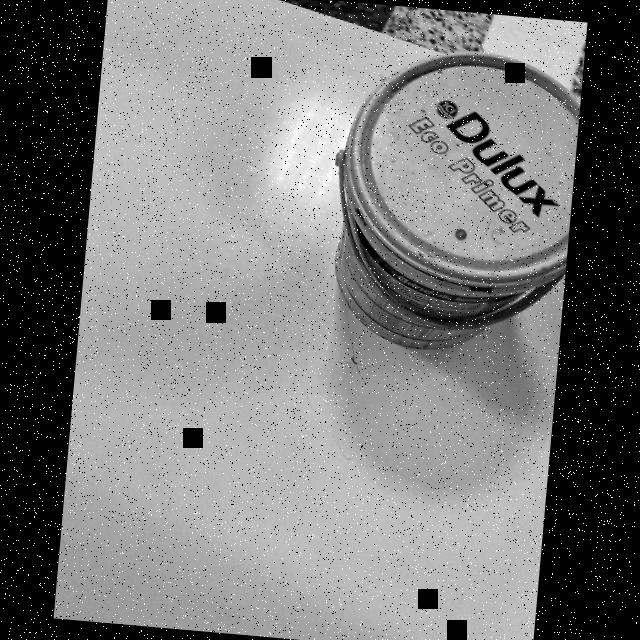paint_bucket: (317, 38, 584, 374)
